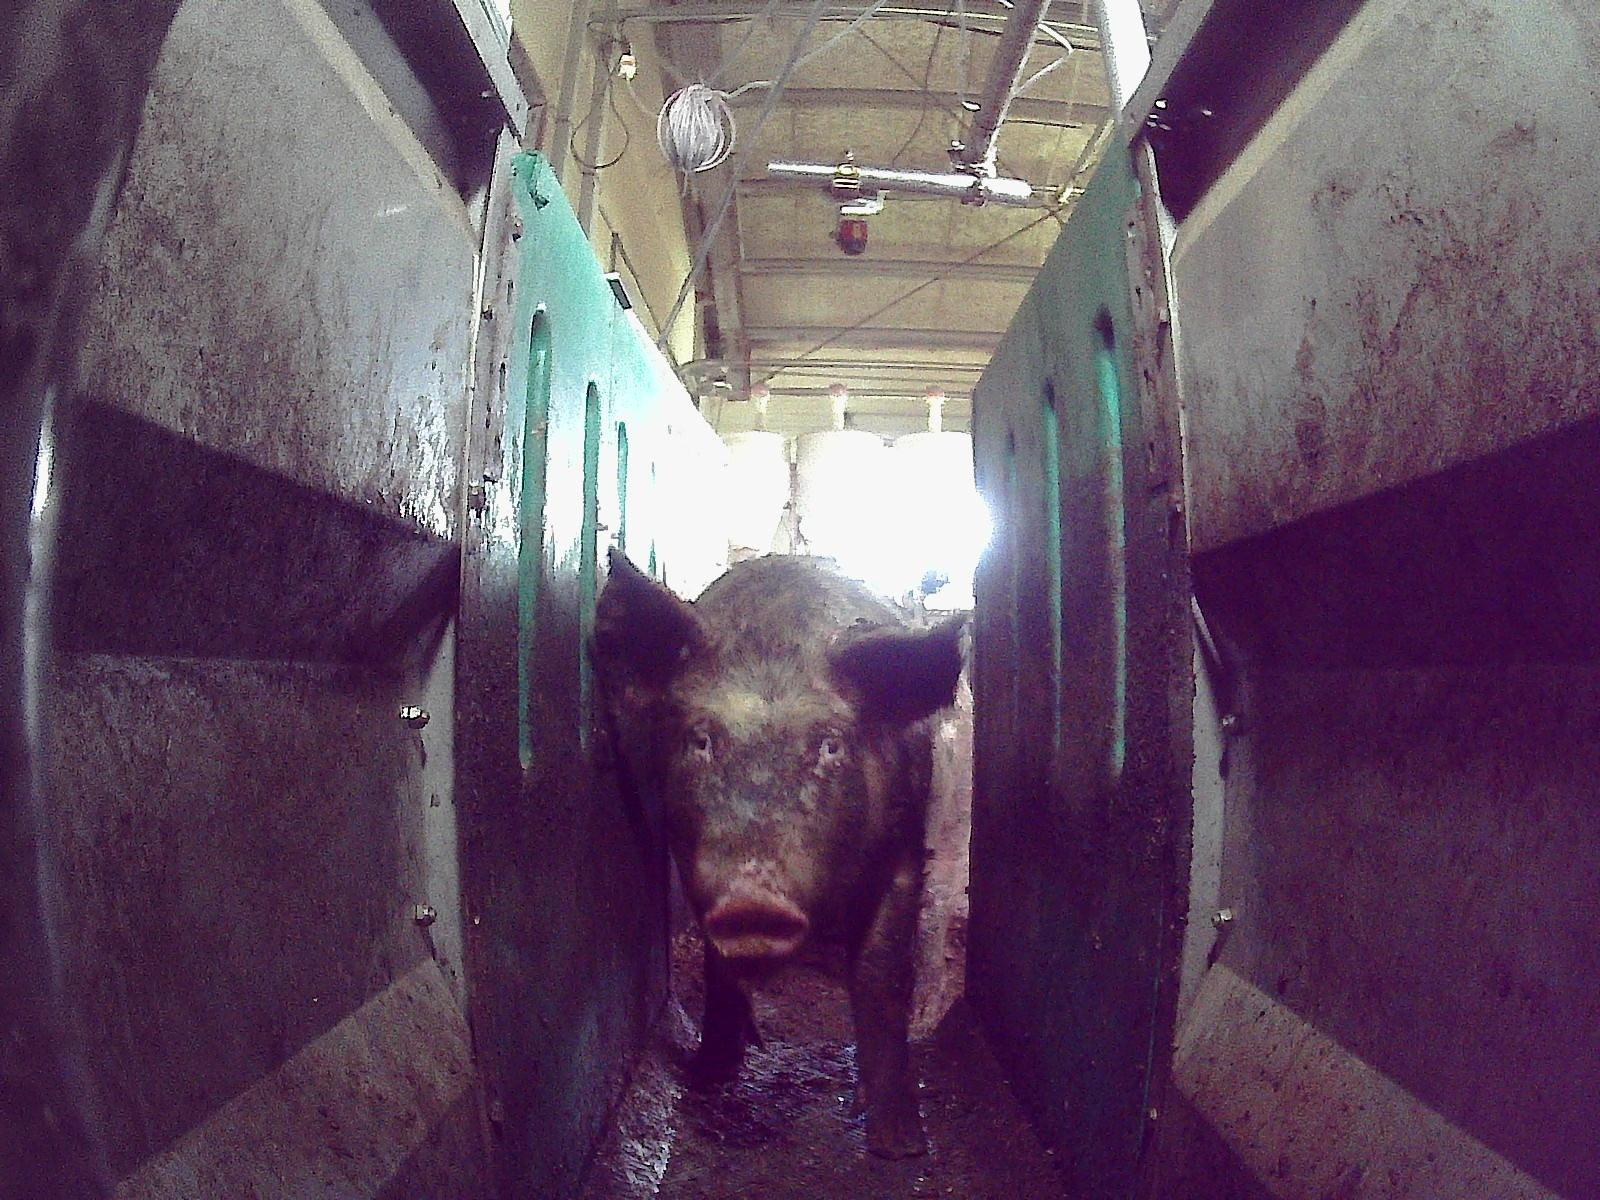Face: (667, 664, 858, 955)
